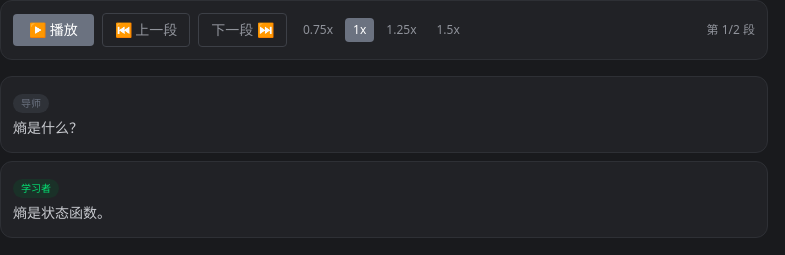
Test: AudioReviewPlayer — playback › ignores the end of a stale utterance after a manual jump
This screenshot has width=785, height=255.
Click the button "▶️ 播放". click: (53, 30)
box: [13,14,94,46]
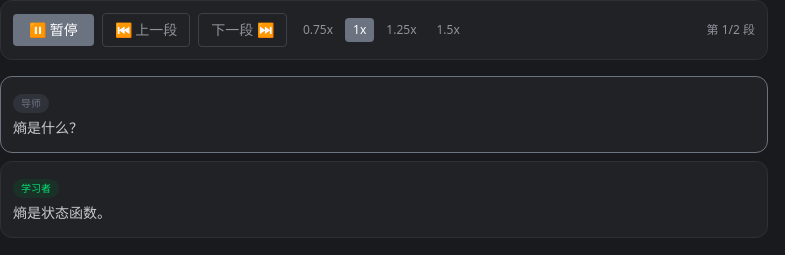
// Jump to the next line while the first one is still speaking.
Click the button "下一段 ⏭️". click: (243, 30)
box: [198,13,287,47]
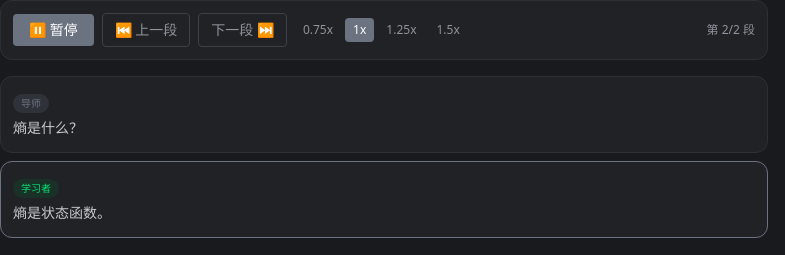
Expected: the text "第 2/2 段" is shown, [707,22,755,38]
